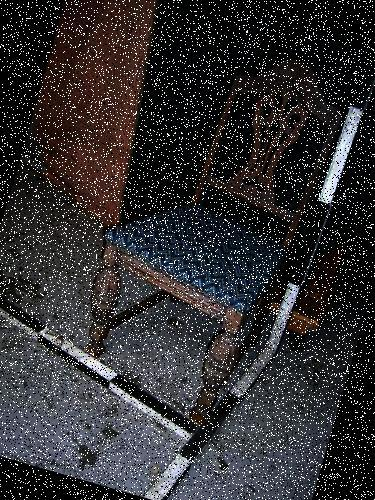Silla: (56, 25, 355, 457)
